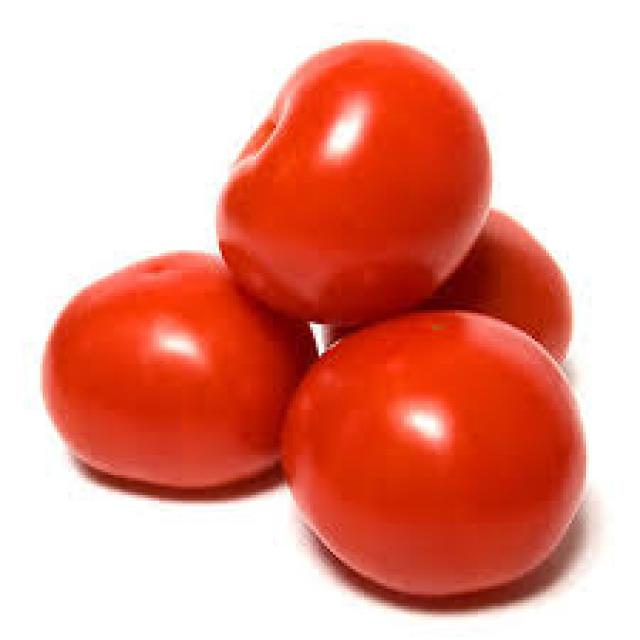Fresh_tomato: (287, 337, 593, 586), (222, 40, 491, 323), (43, 250, 292, 493), (418, 208, 570, 340)
